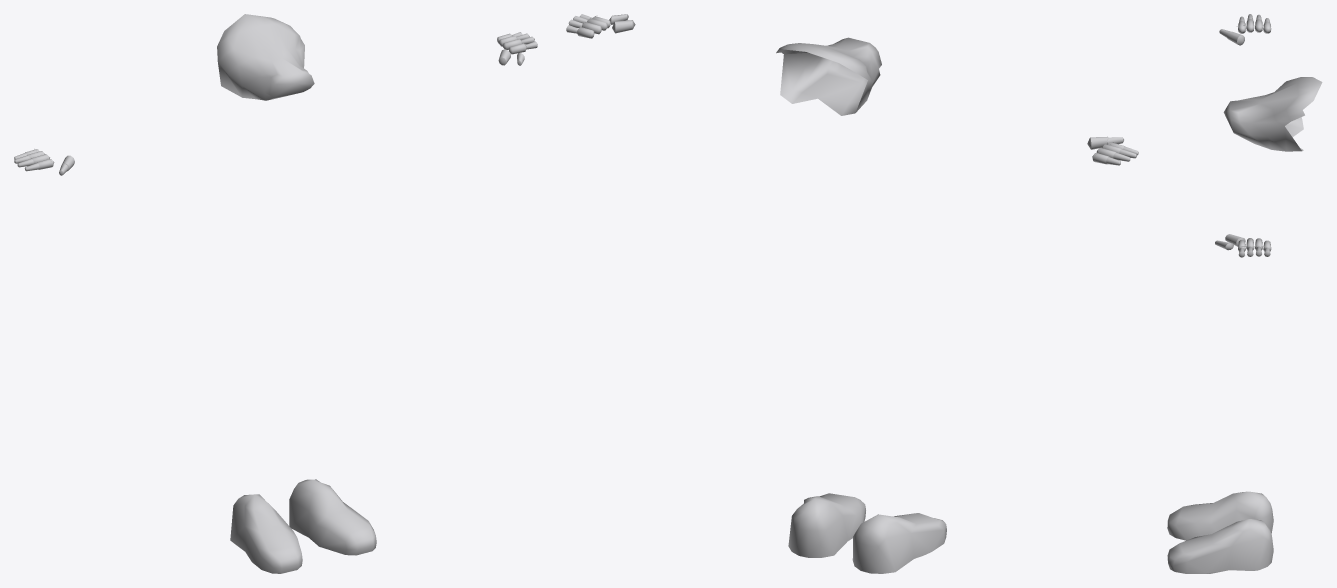
File: Superhuman_Prefab.glb
The picture shows the model from 3 angles, left to right: view 1: azimuth 30°, elevation 25°; view 2: azimuth 150°, elevation 25°; view 3: azimuth 270°, elevation 25°; orthographic projection. The views are drawn at different scales.
Visible parts, largest first — view 1: Superhuman_Prefab; view 2: Superhuman_Prefab; view 3: Superhuman_Prefab.
Boxes of the visible parts, x1,y1,x2,y2 form: Superhuman_Prefab: [14, 14, 537, 573]; Superhuman_Prefab: [566, 14, 1138, 573]; Superhuman_Prefab: [1167, 14, 1322, 573].
Bounding box in the file's own units: 16.31 × 14.88 × 4.46.
3 materials, 2 textured.
